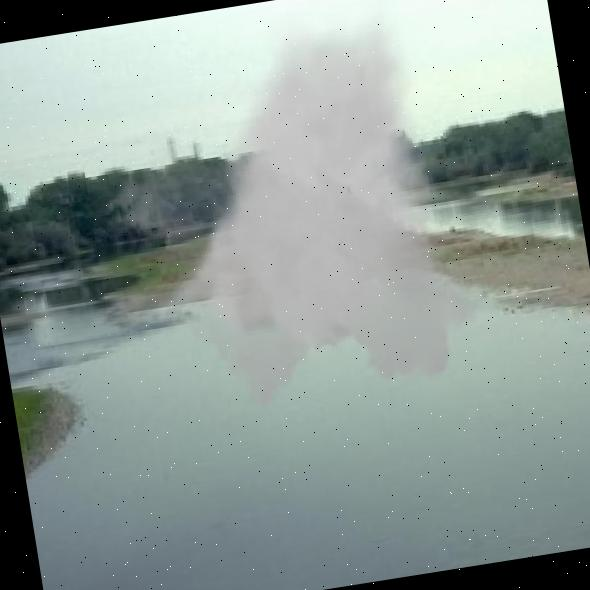smoke: (78, 0, 501, 435)
